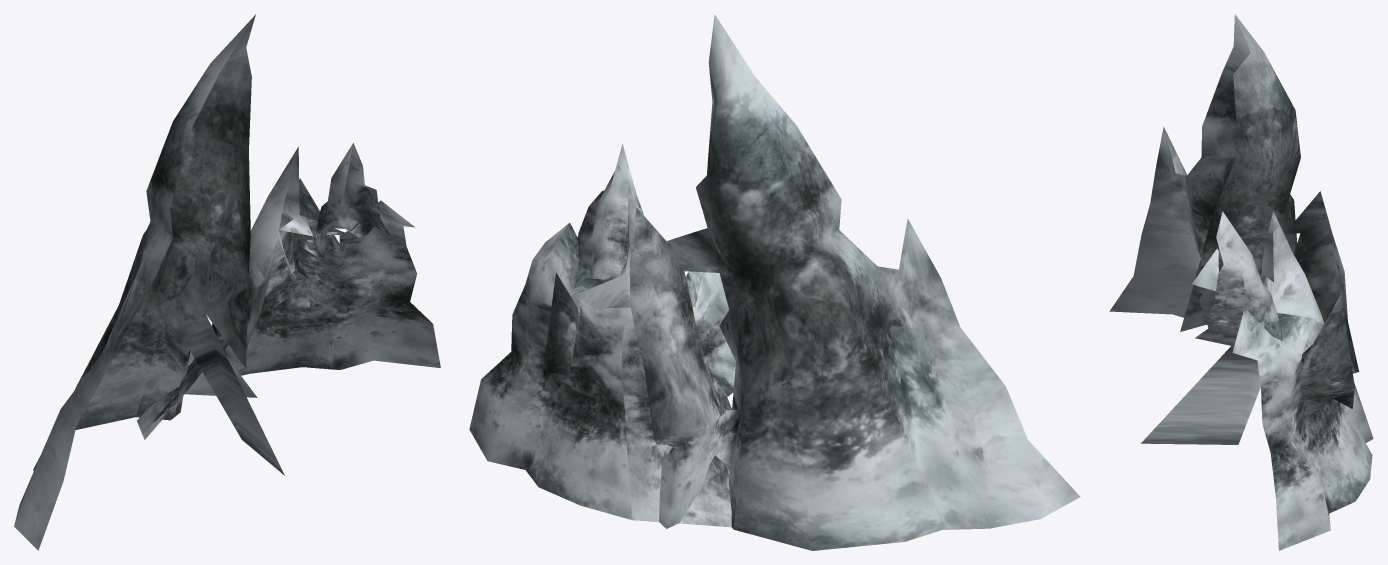
Rendered from S_Rock_White001_6.FBX.
3 renders of one model, left to right at view 1: azimuth 30°, elevation 25°; view 2: azimuth 150°, elevation 25°; view 3: azimuth 270°, elevation 25°, orthographic. The views are drawn at different scales.
Visible parts, largest first — view 1: S_Rock_White001_6; view 2: S_Rock_White001_6; view 3: S_Rock_White001_6.
Part boxes in pixels (box(x1,y1,x2,y2)): S_Rock_White001_6: box(14, 14, 440, 550); S_Rock_White001_6: box(469, 14, 1080, 550); S_Rock_White001_6: box(1109, 14, 1373, 550).
Size of the model in its own units: 1121 by 938 by 513.
